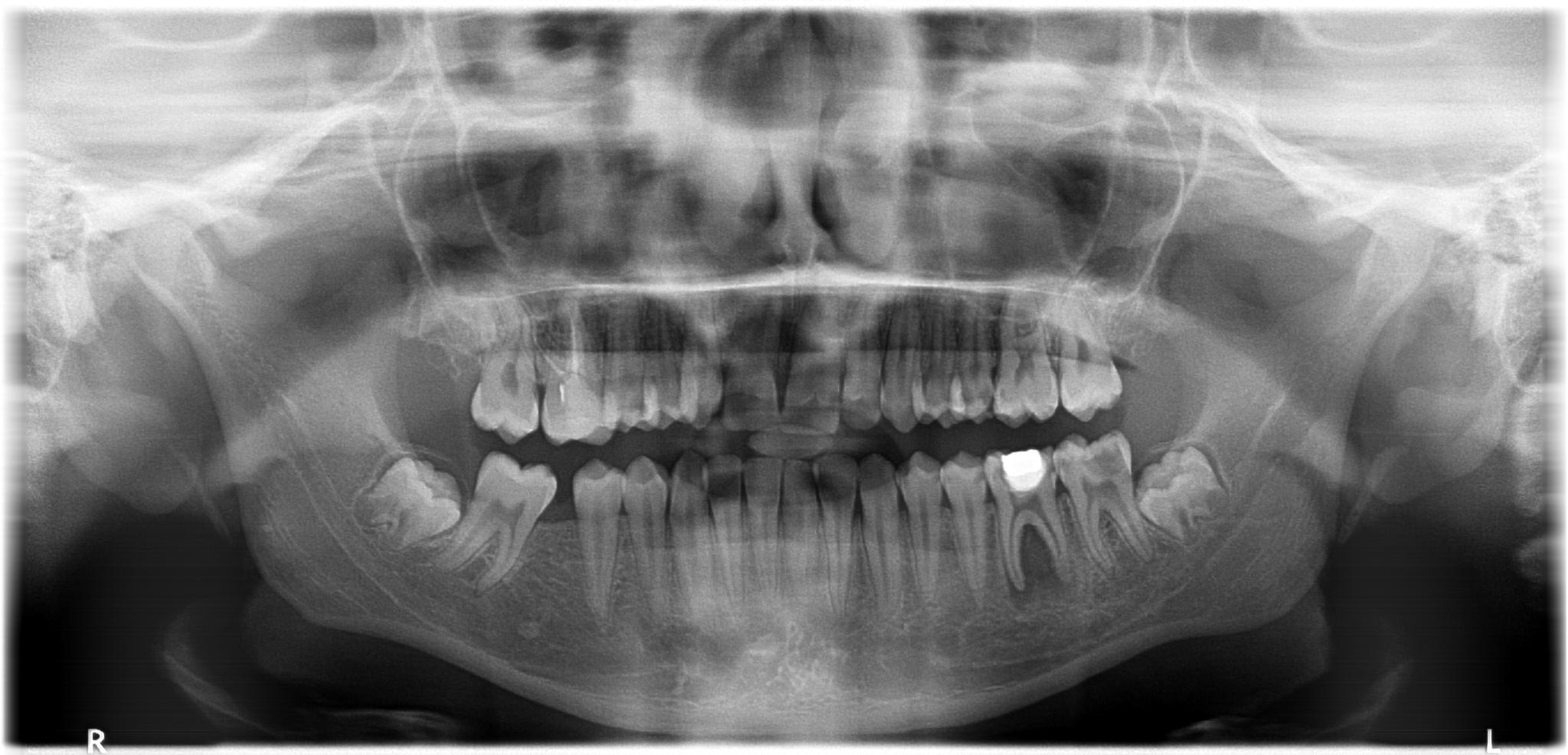Premolars: (559, 245, 1568, 755), (523, 233, 1568, 723), (488, 229, 1481, 734), (486, 221, 1473, 720), (466, 237, 1414, 753), (449, 244, 1355, 755), (487, 208, 1503, 641), (472, 213, 1446, 644), (244, 230, 703, 752), (223, 204, 711, 645)
